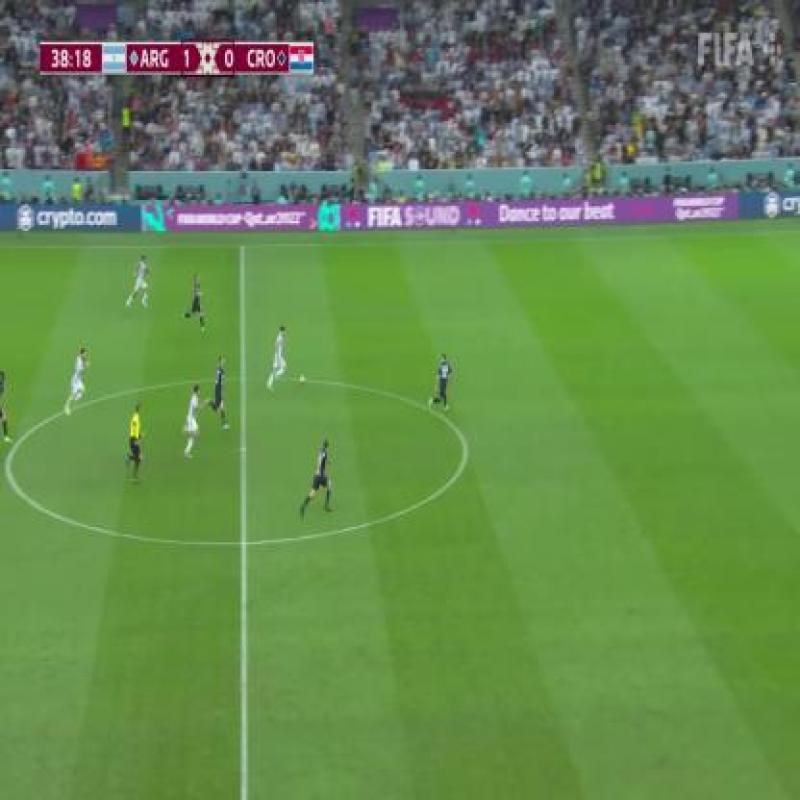13: (236, 237, 248, 258)
14: (237, 368, 250, 390)
15: (234, 531, 254, 556)
c: (447, 430, 487, 464), (0, 444, 19, 488)
